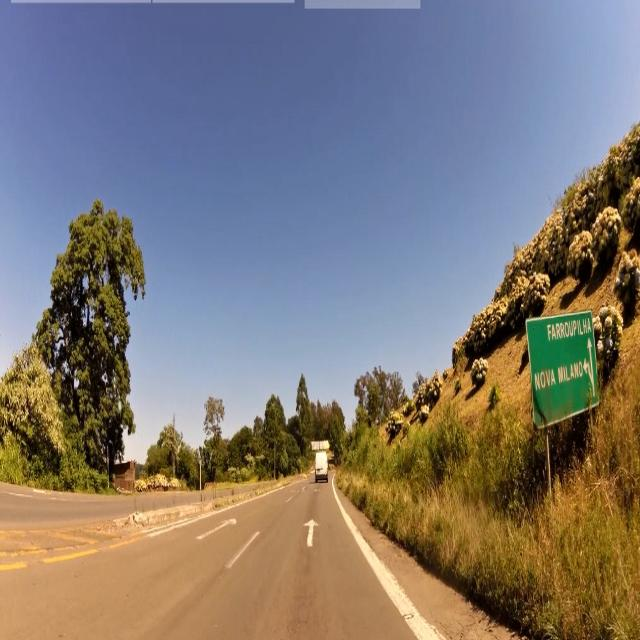I-4: (528, 315, 602, 416)
